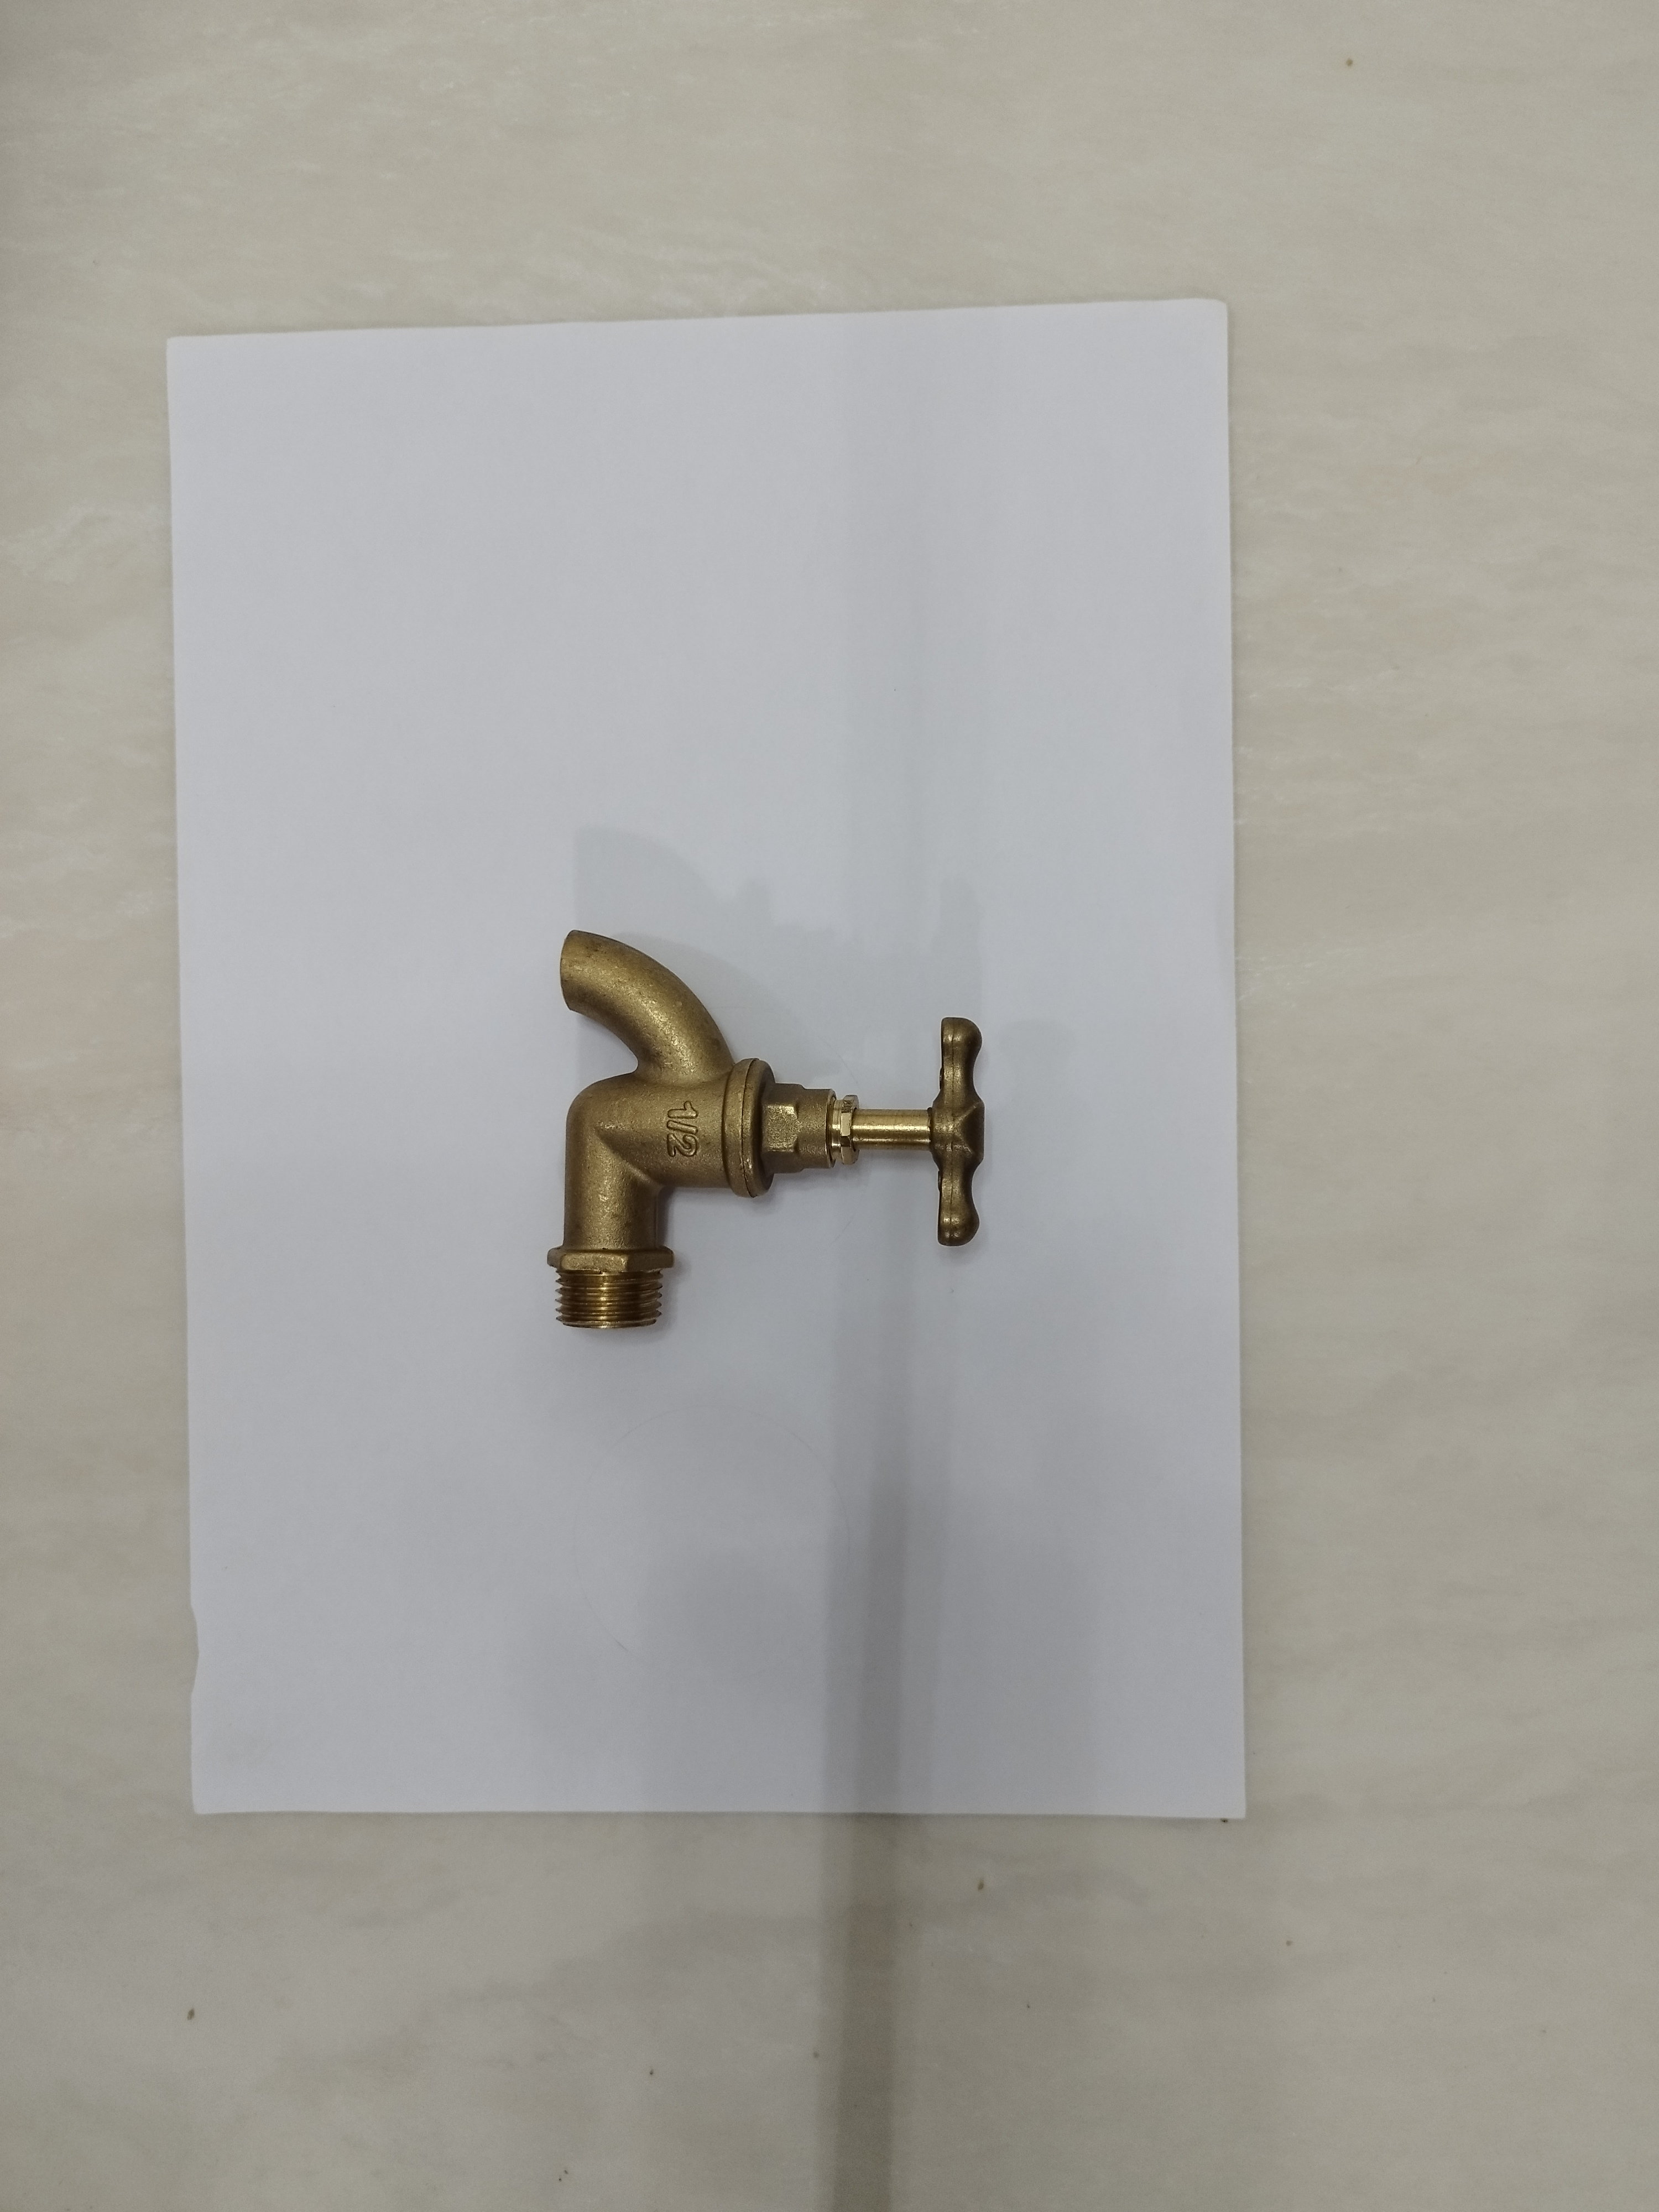brass_water_tap: (526, 914, 997, 1369)
